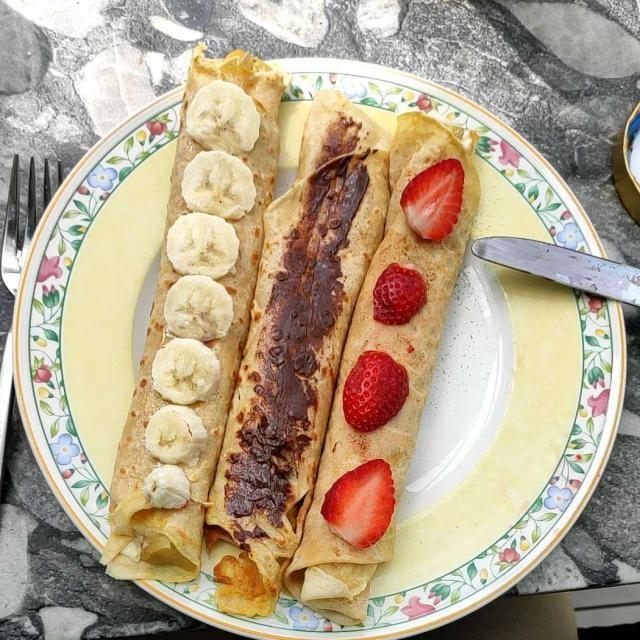banana: (134, 82, 256, 512), (138, 83, 260, 500)
chocolate: (209, 124, 385, 513)
crepe: (91, 43, 465, 624)
nutella: (232, 131, 369, 539)
strawberries: (313, 155, 472, 538), (308, 160, 468, 539)
